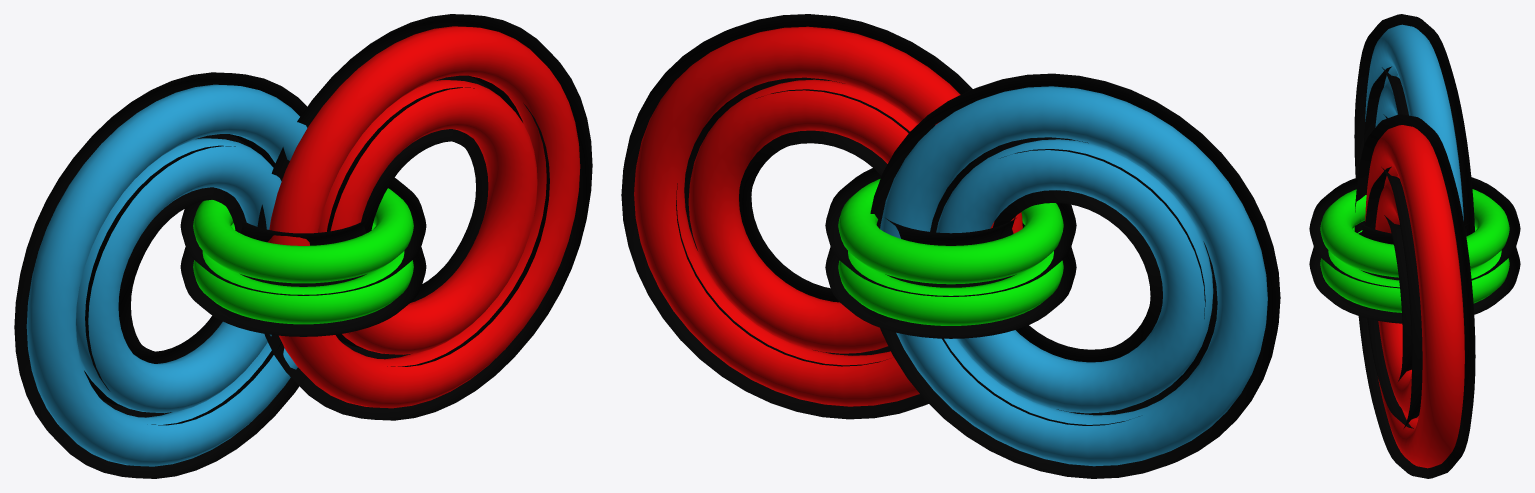
File: double_step_tutorial_03.glb
3 views of the same model, side by side, from view 1: azimuth 30°, elevation 25°; view 2: azimuth 150°, elevation 25°; view 3: azimuth 270°, elevation 25° (orthographic). The views are drawn at different scales.
Parts seen in each view (by area): view 1: Torus.445, Torus.441, Torus.446, Torus.442, Torus.444, Torus.443; view 2: Torus.441, Torus.445, Torus.442, Torus.446, Torus.444, Torus.443; view 3: Torus.445, Torus.441, Torus.444, Torus.443, Torus.446, Torus.442.
Boxes of the visible parts, x1=… form: Torus.445: x1=255, y1=14, x2=592, y2=420; Torus.441: x1=14, y1=72, x2=307, y2=478; Torus.446: x1=318, y1=75, x2=549, y2=366; Torus.442: x1=76, y1=134, x2=287, y2=425; Torus.444: x1=180, y1=178, x2=426, y2=295; Torus.443: x1=180, y1=223, x2=426, y2=336; Torus.441: x1=870, y1=73, x2=1280, y2=478; Torus.445: x1=621, y1=14, x2=1024, y2=419; Torus.442: x1=930, y1=139, x2=1213, y2=425; Torus.446: x1=676, y1=79, x2=917, y2=366; Torus.444: x1=825, y1=168, x2=1076, y2=296; Torus.443: x1=825, y1=247, x2=1076, y2=338; Torus.445: x1=1354, y1=114, x2=1475, y2=478; Torus.441: x1=1354, y1=14, x2=1474, y2=235; Torus.444: x1=1309, y1=177, x2=1520, y2=288; Torus.443: x1=1309, y1=226, x2=1520, y2=323; Torus.446: x1=1364, y1=166, x2=1418, y2=428; Torus.442: x1=1364, y1=66, x2=1399, y2=145.
Size of the model in its own units: 5.54 by 3.4 by 1.96.
